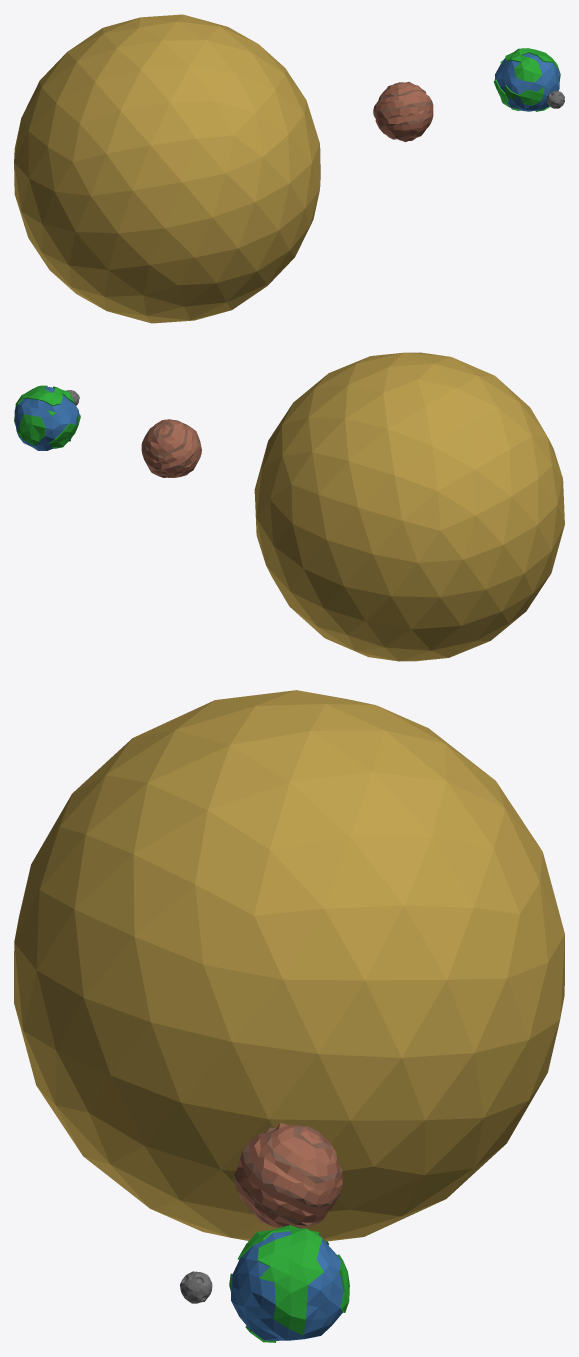
File: SYSTEM.glb
The picture shows the model from 3 angles, top to bottom: view 1: azimuth 30°, elevation 25°; view 2: azimuth 150°, elevation 25°; view 3: azimuth 270°, elevation 25°; orthographic projection. The views are drawn at different scales.
Visible parts, largest first — view 1: Sun, Earth, Venus; view 2: Sun, Earth, Venus; view 3: Sun, Earth, Venus, Moon.
Part boxes in pixels (bbox=[...]): Sun: bbox=[14, 14, 320, 323]; Earth: bbox=[494, 48, 560, 111]; Venus: bbox=[373, 82, 433, 142]; Sun: bbox=[254, 352, 564, 661]; Earth: bbox=[14, 385, 80, 450]; Venus: bbox=[141, 419, 201, 477]; Sun: bbox=[14, 690, 564, 1241]; Earth: bbox=[229, 1225, 349, 1342]; Venus: bbox=[234, 1123, 342, 1228]; Moon: bbox=[180, 1271, 212, 1303].
Size of the model in its own units: 6.46 by 3.3 by 3.28.
